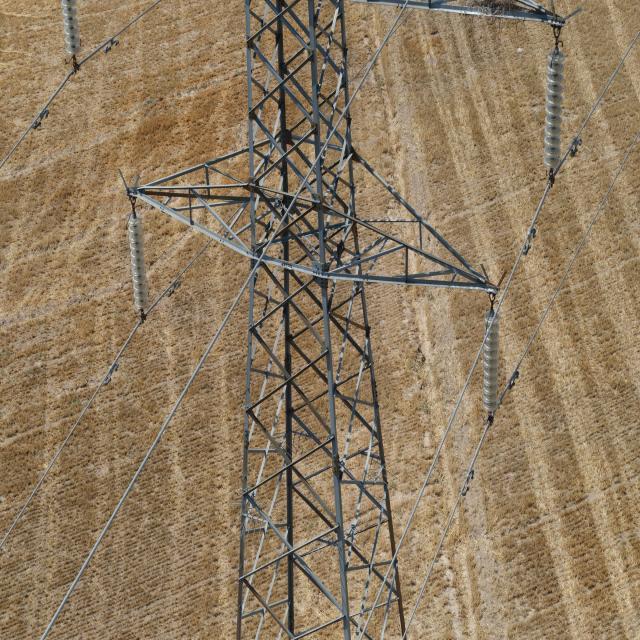direk: (230, 7, 411, 640)
